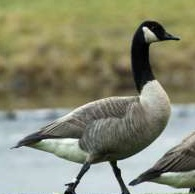goose: (8, 16, 186, 193)
